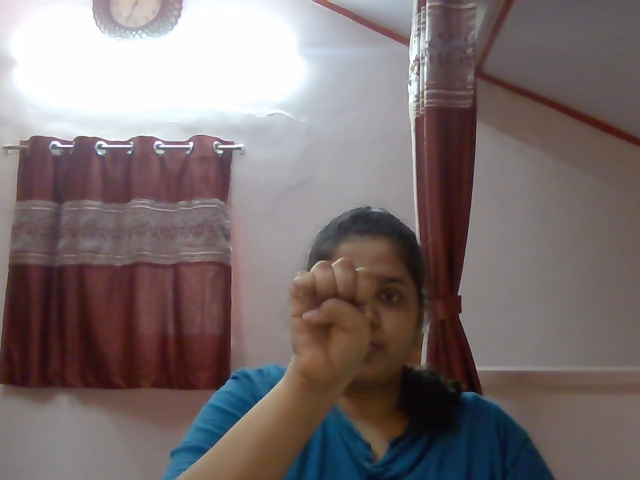e: (262, 257, 389, 387)
